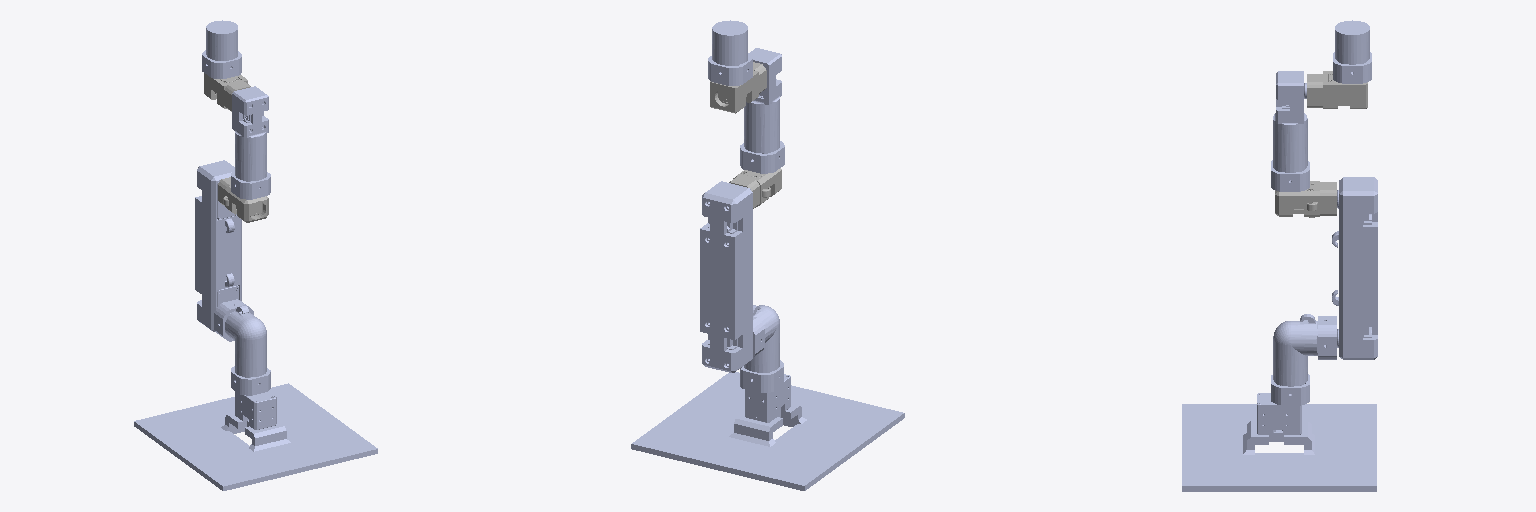
The robot description file, URDF, robot "indy-gello":
<?xml version="1.0" encoding="utf-8"?>
<!-- This URDF was automatically created by SolidWorks to URDF Exporter! Originally created by [author] ([email redacted]) 
     Commit Version: 1.6.0-4-g7f85cfe  Build Version: 1.6.7995.38578
     For more information, please see http://wiki.ros.org/sw_urdf_exporter -->
<robot
  name="indy-gello">
  <link
    name="base_link">
    <inertial>
      <origin
        xyz="-1.10086828858753E-12 7.97037590396384E-05 0.0099743481813495"
        rpy="0 0 0" />
      <mass
        value="0.297595645464966" />
      <inertia
        ixx="0.00082887007900153"
        ixy="5.2438960046514E-15"
        ixz="-9.32210061505888E-17"
        iyy="0.0008144859417279"
        iyz="-1.0606377858122E-07"
        izz="0.0016232172042748" />
    </inertial>
    <visual>
      <origin
        xyz="0 0 0"
        rpy="0 0 0" />
      <geometry>
        <mesh
          filename="package://indy-gello/meshes/base_link.STL" />
      </geometry>
      <material
        name="">
        <color
          rgba="0.792156862745098 0.819607843137255 0.933333333333333 1" />
      </material>
    </visual>
    <collision>
      <origin
        xyz="0 0 0"
        rpy="0 0 0" />
      <geometry>
        <mesh
          filename="package://indy-gello/meshes/base_link.STL" />
      </geometry>
    </collision>
  </link>
  <link
    name="link1">
    <inertial>
      <origin
        xyz="2.60008567524947E-10 0.00979751230032889 0.0473885909265531"
        rpy="0 0 0" />
      <mass
        value="0.111883325699471" />
      <inertia
        ixx="5.5182497311543E-05"
        ixy="-9.73576809393125E-13"
        ixz="4.995935281703E-13"
        iyy="4.84868218434387E-05"
        iyz="-9.07110429462197E-06"
        izz="3.04422678711253E-05" />
    </inertial>
    <visual>
      <origin
        xyz="0 0 0"
        rpy="0 0 0" />
      <geometry>
        <mesh
          filename="package://indy-gello/meshes/link1.STL" />
      </geometry>
      <material
        name="">
        <color
          rgba="0.792156862745098 0.819607843137255 0.933333333333333 1" />
      </material>
    </visual>
    <collision>
      <origin
        xyz="0 0 0"
        rpy="0 0 0" />
      <geometry>
        <mesh
          filename="package://indy-gello/meshes/link1.STL" />
      </geometry>
    </collision>
  </link>
  <joint
    name="joint1"
    type="revolute">
    <origin
      xyz="0 0.012 0.06"
      rpy="0 0 0" />
    <parent
      link="base_link" />
    <child
      link="link1" />
    <axis
      xyz="0 0 1" />
    <limit
      lower="-6.2832"
      upper="6.2832"
      effort="3.4"
      velocity="0" />
  </joint>
  <link
    name="link2">
    <inertial>
      <origin
        xyz="1.58376693696175E-11 0.0215814921854116 0.0787500001847784"
        rpy="0 0 0" />
      <mass
        value="0.292024549976832" />
      <inertia
        ixx="0.000495645594571539"
        ixy="5.09858077861509E-14"
        ixz="1.60429491180874E-13"
        iyy="0.000496102658269112"
        iyz="1.34020391243524E-12"
        izz="7.40144785445118E-05" />
    </inertial>
    <visual>
      <origin
        xyz="0 0 0"
        rpy="0 0 0" />
      <geometry>
        <mesh
          filename="package://indy-gello/meshes/link2.STL" />
      </geometry>
      <material
        name="">
        <color
          rgba="0.792156862745098 0.819607843137255 0.933333333333333 1" />
      </material>
    </visual>
    <collision>
      <origin
        xyz="0 0 0"
        rpy="0 0 0" />
      <geometry>
        <mesh
          filename="package://indy-gello/meshes/link2.STL" />
      </geometry>
    </collision>
  </link>
  <joint
    name="joint2"
    type="revolute">
    <origin
      xyz="0 0.047725 0.067"
      rpy="0 0 0" />
    <parent
      link="link1" />
    <child
      link="link2" />
    <axis
      xyz="0 1 0" />
    <limit
      lower="-6.2832"
      upper="6.2832"
      effort="3.4"
      velocity="0" />
  </joint>
  <link
    name="link3">
    <inertial>
      <origin
        xyz="-1.70186139949972E-06 -0.0329169854078744 0.000623757148172532"
        rpy="0 0 0" />
      <mass
        value="0.0421144778156789" />
      <inertia
        ixx="1.35026863907814E-05"
        ixy="1.37836156819399E-09"
        ixz="8.39620381642286E-11"
        iyy="6.12325805734184E-06"
        iyz="-2.59912127947901E-07"
        izz="1.4682526108416E-05" />
    </inertial>
    <visual>
      <origin
        xyz="0 0 0"
        rpy="0 0 0" />
      <geometry>
        <mesh
          filename="package://indy-gello/meshes/link3.STL" />
      </geometry>
      <material
        name="">
        <color
          rgba="0.752941176470588 0.752941176470588 0.752941176470588 1" />
      </material>
    </visual>
    <collision>
      <origin
        xyz="0 0 0"
        rpy="0 0 0" />
      <geometry>
        <mesh
          filename="package://indy-gello/meshes/link3.STL" />
      </geometry>
    </collision>
  </link>
  <joint
    name="joint3"
    type="revolute">
    <origin
      xyz="0 0 0.1575"
      rpy="0 0 0" />
    <parent
      link="link2" />
    <child
      link="link3" />
    <axis
      xyz="0 -1 0" />
    <limit
      lower="-6.2832"
      upper="6.2832"
      effort="3.4"
      velocity="0" />
  </joint>
  <link
    name="link4">
    <inertial>
      <origin
        xyz="-6.27740965202159E-07 0.000263072686223432 0.0574285722868058"
        rpy="0 0 0" />
      <mass
        value="0.114186790835051" />
      <inertia
        ixx="8.41878192434863E-05"
        ixy="3.76483425847066E-11"
        ixz="-1.37847672523575E-09"
        iyy="8.52419015947094E-05"
        iyz="8.35143837050407E-07"
        izz="1.99180736276528E-05" />
    </inertial>
    <visual>
      <origin
        xyz="0 0 0"
        rpy="0 0 0" />
      <geometry>
        <mesh
          filename="package://indy-gello/meshes/link4.STL" />
      </geometry>
      <material
        name="">
        <color
          rgba="0.792156862745098 0.819607843137255 0.933333333333333 1" />
      </material>
    </visual>
    <collision>
      <origin
        xyz="0 0 0"
        rpy="0 0 0" />
      <geometry>
        <mesh
          filename="package://indy-gello/meshes/link4.STL" />
      </geometry>
    </collision>
  </link>
  <joint
    name="joint4"
    type="revolute">
    <origin
      xyz="0 -0.0485 0.0175"
      rpy="0 0 0" />
    <parent
      link="link3" />
    <child
      link="link4" />
    <axis
      xyz="0 0 1" />
    <limit
      lower="-6.2832"
      upper="6.2832"
      effort="0.52"
      velocity="0" />
  </joint>
  <link
    name="link5">
    <inertial>
      <origin
        xyz="1.55514935364051E-06 0.0319777693838279 0.000664996325046963"
        rpy="0 0 0" />
      <mass
        value="0.0460807384452524" />
      <inertia
        ixx="1.56785561839794E-05"
        ixy="1.37858111646645E-09"
        ixz="-8.40191538921201E-11"
        iyy="6.60850205135359E-06"
        iyz="2.40503791140801E-07"
        izz="1.67466112051709E-05" />
    </inertial>
    <visual>
      <origin
        xyz="0 0 0"
        rpy="0 0 0" />
      <geometry>
        <mesh
          filename="package://indy-gello/meshes/link5.STL" />
      </geometry>
      <material
        name="">
        <color
          rgba="0.752941176470588 0.752941176470588 0.752941176470588 1" />
      </material>
    </visual>
    <collision>
      <origin
        xyz="0 0 0"
        rpy="0 0 0" />
      <geometry>
        <mesh
          filename="package://indy-gello/meshes/link5.STL" />
      </geometry>
    </collision>
  </link>
  <joint
    name="joint5"
    type="revolute">
    <origin
      xyz="0 0.0175 0.105"
      rpy="0 0 0" />
    <parent
      link="link4" />
    <child
      link="link5" />
    <axis
      xyz="0 1 0" />
    <limit
      lower="-6.2832"
      upper="6.2832"
      effort="0.52"
      velocity="0" />
  </joint>
  <link
    name="link6">
    <inertial>
      <origin
        xyz="-3.17648968510078E-10 -2.96680527367421E-10 0.0266996485802297"
        rpy="0 0 0" />
      <mass
        value="0.0544490389913867" />
      <inertia
        ixx="1.27487584701772E-05"
        ixy="1.87775059464296E-20"
        ixz="1.02398911629396E-13"
        iyy="1.27487584701772E-05"
        iyz="1.08518811341541E-13"
        izz="1.15262690805742E-05" />
    </inertial>
    <visual>
      <origin
        xyz="0 0 0"
        rpy="0 0 0" />
      <geometry>
        <mesh
          filename="package://indy-gello/meshes/link6.STL" />
      </geometry>
      <material
        name="">
        <color
          rgba="0.792156862745098 0.819607843137255 0.933333333333333 1" />
      </material>
    </visual>
    <collision>
      <origin
        xyz="0 0 0"
        rpy="0 0 0" />
      <geometry>
        <mesh
          filename="package://indy-gello/meshes/link6.STL" />
      </geometry>
    </collision>
  </link>
  <joint
    name="joint6"
    type="revolute">
    <origin
      xyz="0 0.04655 0.0175"
      rpy="0 0 0" />
    <parent
      link="link5" />
    <child
      link="link6" />
    <axis
      xyz="0 0 1" />
    <limit
      lower="-6.2832"
      upper="6.2832"
      effort="0.52"
      velocity="0" />
  </joint>
</robot>

--- Render facts (derived) ---
Views: 3 orthographic renders of the robot side by side, from view 1: azimuth 30°, elevation 25°; view 2: azimuth 150°, elevation 25°; view 3: azimuth 270°, elevation 25°.
Model indy-gello with 7 links and 6 joints (6 revolute), rooted at base_link, posed all joints at 0.
Links seen in each view (by area): view 1: base_link, link2, link4, link1, link6, link3, link5; view 2: base_link, link2, link4, link1, link6, link5, link3; view 3: base_link, link2, link1, link4, link6, link3, link5.
Link boxes in pixels (x1,y1,x2,y2): base_link: (134, 383, 377, 490); link2: (195, 160, 241, 331); link4: (231, 86, 270, 199); link1: (214, 299, 270, 395); link6: (202, 20, 241, 78); link3: (218, 177, 268, 222); link5: (204, 73, 250, 111); base_link: (631, 372, 904, 490); link2: (700, 181, 752, 372); link4: (740, 48, 784, 173); link1: (740, 305, 783, 392); link6: (708, 20, 752, 85); link5: (710, 62, 766, 113); link3: (729, 168, 781, 208); base_link: (1182, 393, 1376, 491); link2: (1332, 177, 1377, 359); link1: (1271, 314, 1336, 405); link4: (1271, 71, 1309, 191); link6: (1333, 20, 1371, 83); link3: (1275, 181, 1336, 217); link5: (1307, 71, 1367, 108).
Bounding box of the posed robot: 0.2 × 0.2017 × 0.4783 m (x, y, z).
Meshes: 7 distinct files referenced, 7 mesh visuals loaded (7 binary STL).
